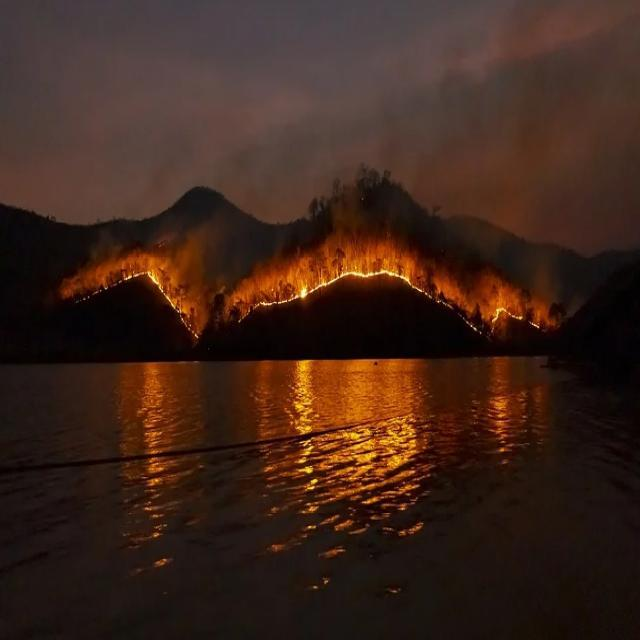Fire: (222, 257, 554, 338), (64, 242, 200, 338)
Smoke: (422, 110, 626, 246), (212, 162, 414, 266)
